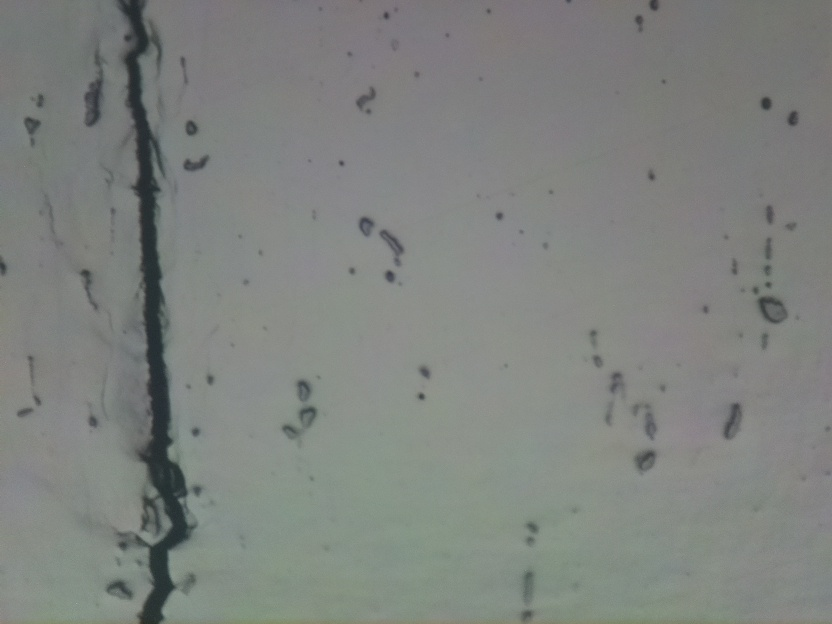crack: (118, 0, 189, 624)
